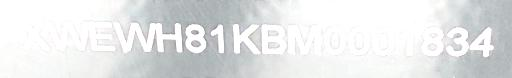letter: (112, 17, 156, 53), (46, 19, 90, 51), (286, 21, 322, 55), (17, 18, 51, 51), (154, 18, 184, 55), (231, 21, 261, 55), (86, 19, 116, 51), (259, 22, 287, 56), (468, 26, 496, 58), (371, 23, 397, 57), (322, 24, 348, 56), (444, 24, 470, 56), (184, 20, 208, 54), (347, 22, 371, 56), (420, 24, 444, 58), (208, 20, 226, 56), (398, 23, 414, 57)
